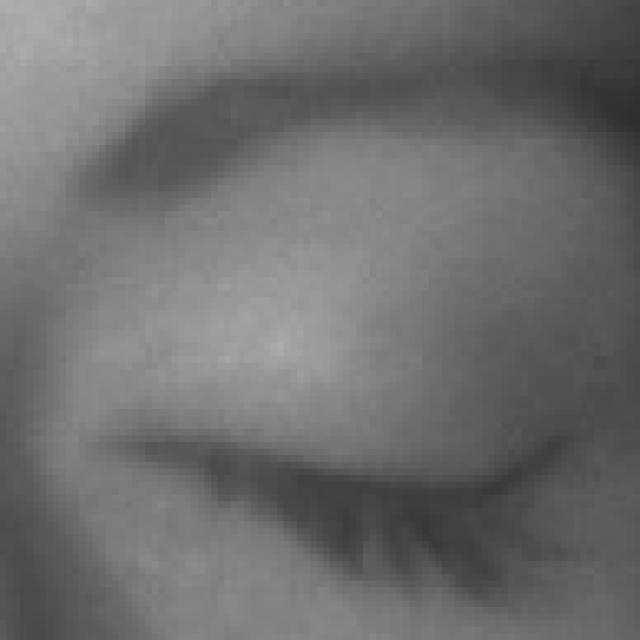Eyeclosed: (130, 253, 592, 640)
